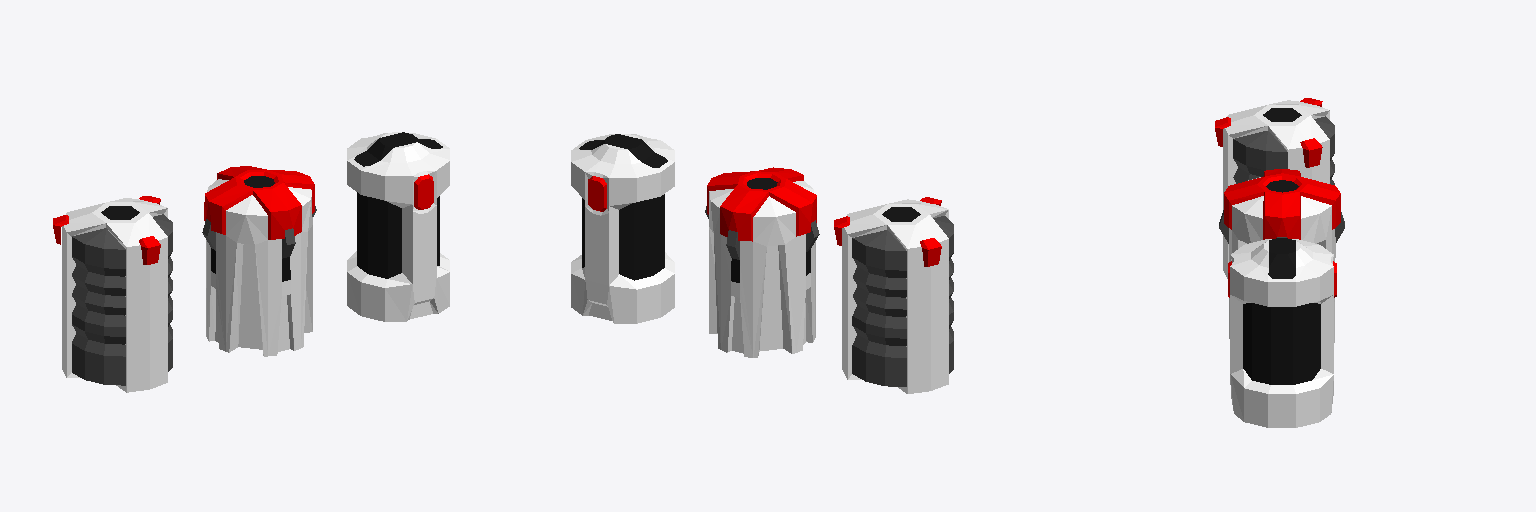
File: food_containers_0.obj
3 views of the same model, side by side, from view 1: azimuth 30°, elevation 25°; view 2: azimuth 150°, elevation 25°; view 3: azimuth 270°, elevation 25° (orthographic).
Parts seen in each view (by area): view 1: ContainerTri_Cylinder.005, ContainerQuad_Cylinder, ContainerBi_Cylinder.001; view 2: ContainerTri_Cylinder.005, ContainerQuad_Cylinder, ContainerBi_Cylinder.001; view 3: ContainerBi_Cylinder.001, ContainerTri_Cylinder.005, ContainerQuad_Cylinder.
Boxes of the visible parts, <box> form: ContainerTri_Cylinder.005: <box>53,196,172,392</box>; ContainerQuad_Cylinder: <box>202,166,316,356</box>; ContainerBi_Cylinder.001: <box>347,132,449,321</box>; ContainerTri_Cylinder.005: <box>834,197,953,393</box>; ContainerQuad_Cylinder: <box>705,167,819,357</box>; ContainerBi_Cylinder.001: <box>571,134,674,323</box>; ContainerBi_Cylinder.001: <box>1228,238,1336,427</box>; ContainerTri_Cylinder.005: <box>1215,98,1334,278</box>; ContainerQuad_Cylinder: <box>1219,169,1344,342</box>.
Bounding box in the file's own units: 0.4879 × 0.198 × 0.1467.